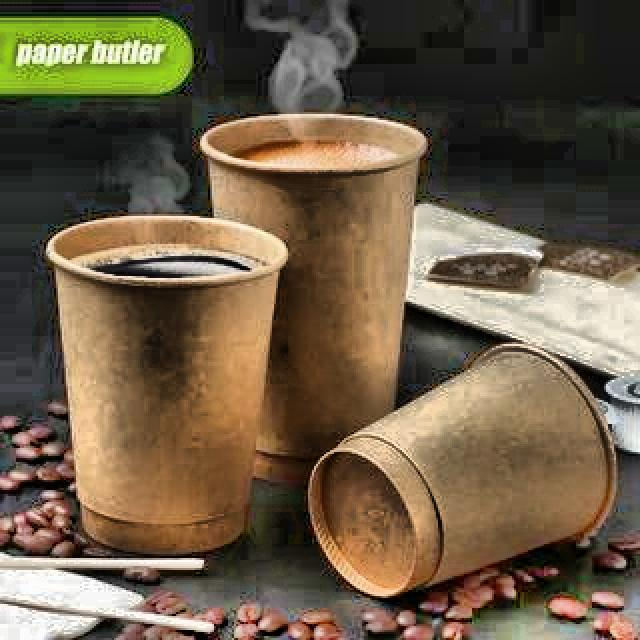Cup: (193, 104, 441, 476), (306, 334, 638, 602), (46, 205, 293, 565)
